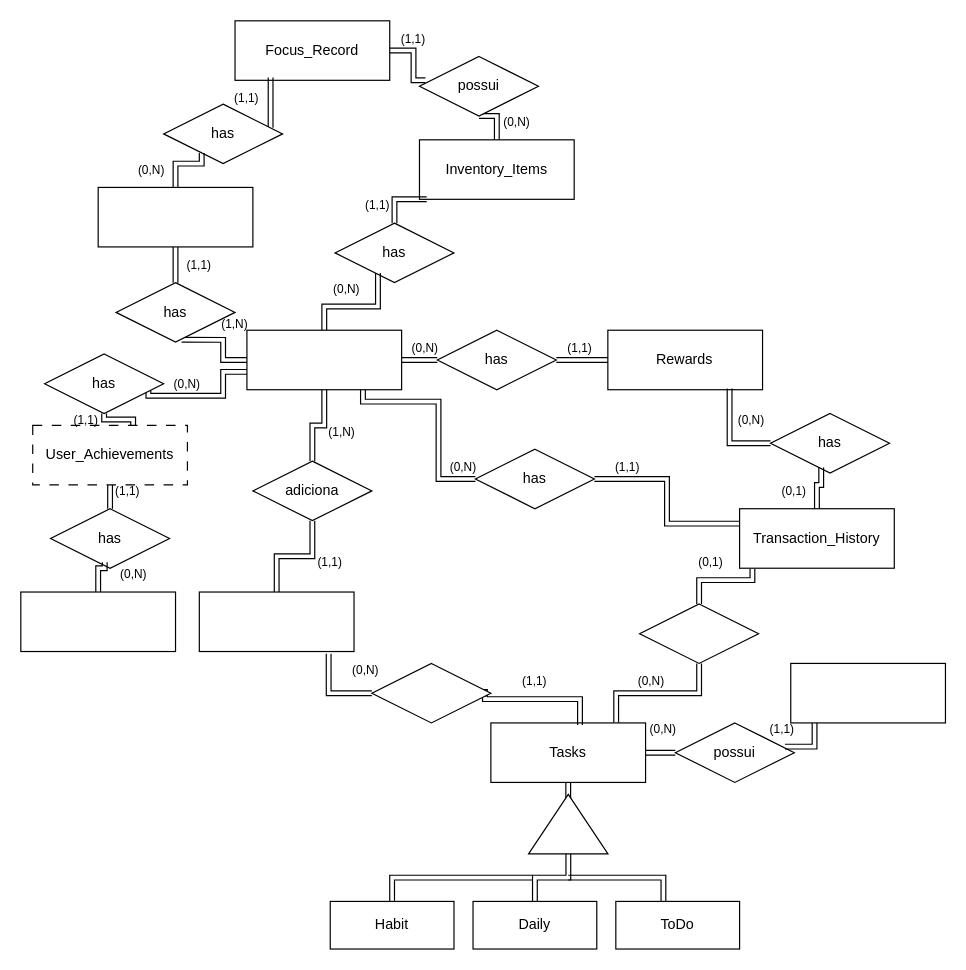
The diagram is 966 pixels wide and 970 high, and some of its shapes have lost their labels. Each missing label, with the centre of its shape:
Achievements: point 98,621
Board_Column: point 276,621
Checklist_item: point 867,692
Focus_Activity: point 175,216
gera: point 698,633
tem: point 431,692
User: point 324,359
